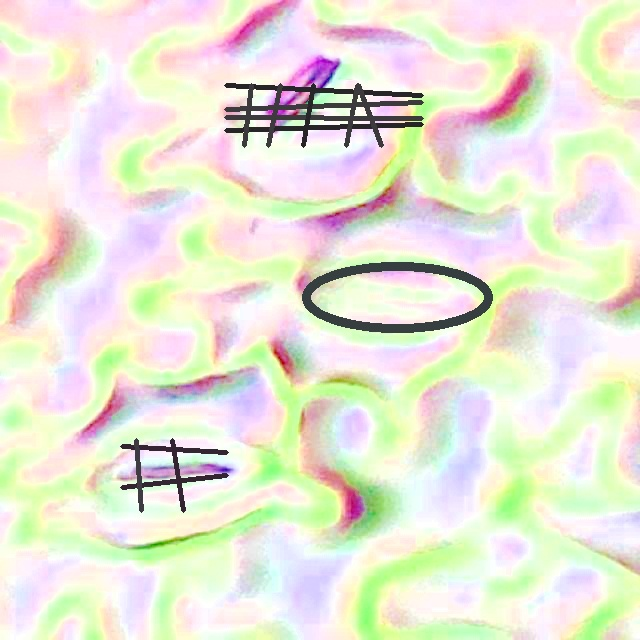close: (301, 261, 493, 333), (224, 83, 423, 147)
open: (121, 438, 227, 511)
